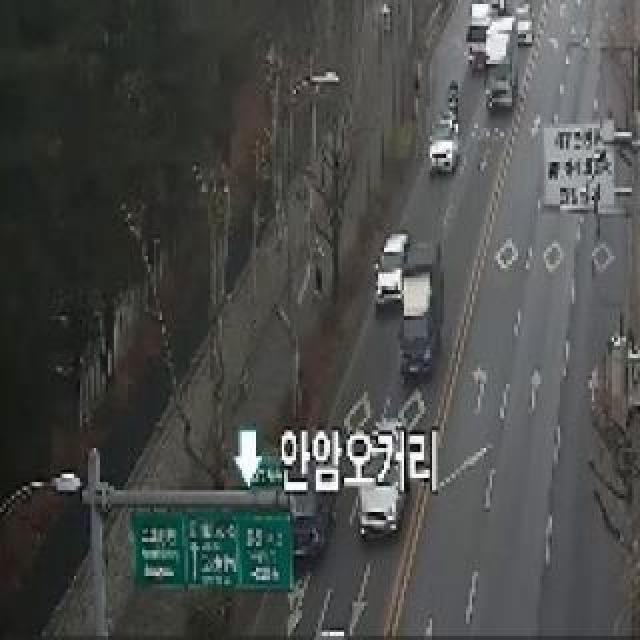motorbike: (447, 79, 463, 119)
truck: (396, 242, 448, 376), (483, 16, 517, 106), (460, 0, 496, 68)
